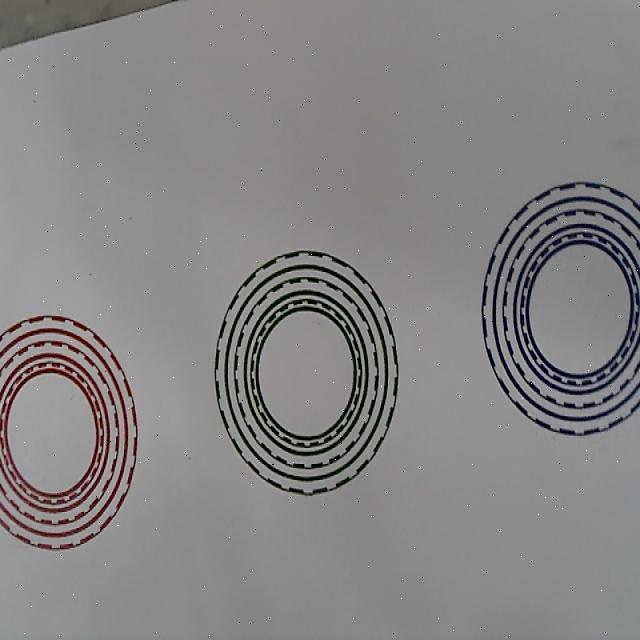g: (213, 250, 399, 496)
